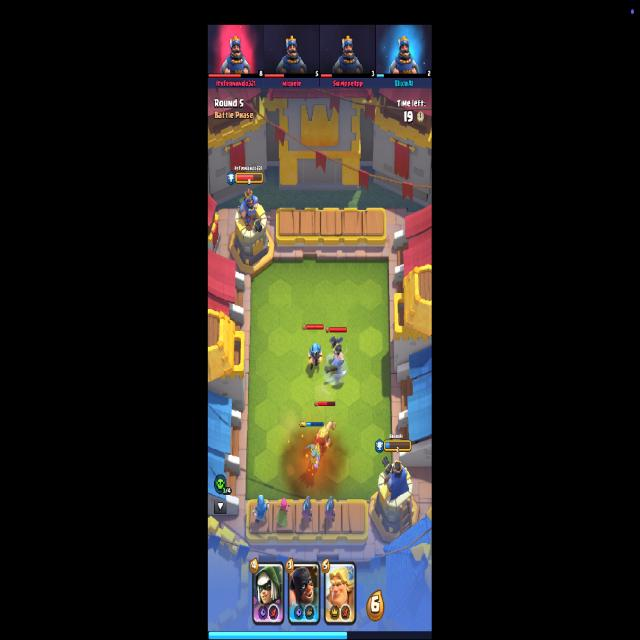archer: (275, 497, 291, 528)
card_bandit: (252, 562, 284, 627)
card_executioner: (288, 562, 320, 624)
card_golden_knight: (323, 560, 357, 626)
dart_goblin: (307, 442, 322, 470)
executioner: (330, 338, 350, 382)
golden_knight: (315, 419, 336, 452)
musketeer: (300, 496, 314, 524), (324, 497, 338, 524)
wizard: (252, 494, 269, 525), (309, 342, 322, 372)
